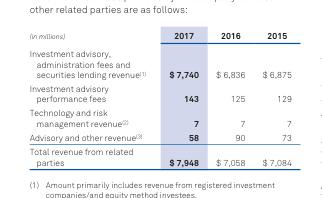table: (28, 29, 290, 167)
table column: (28, 29, 156, 167), (156, 29, 206, 167), (206, 29, 253, 167), (253, 29, 290, 167)
table column header: (28, 29, 290, 44)
table row: (28, 44, 290, 81), (28, 81, 290, 105), (28, 105, 290, 129), (28, 144, 290, 167), (28, 29, 290, 44), (28, 129, 290, 144)
